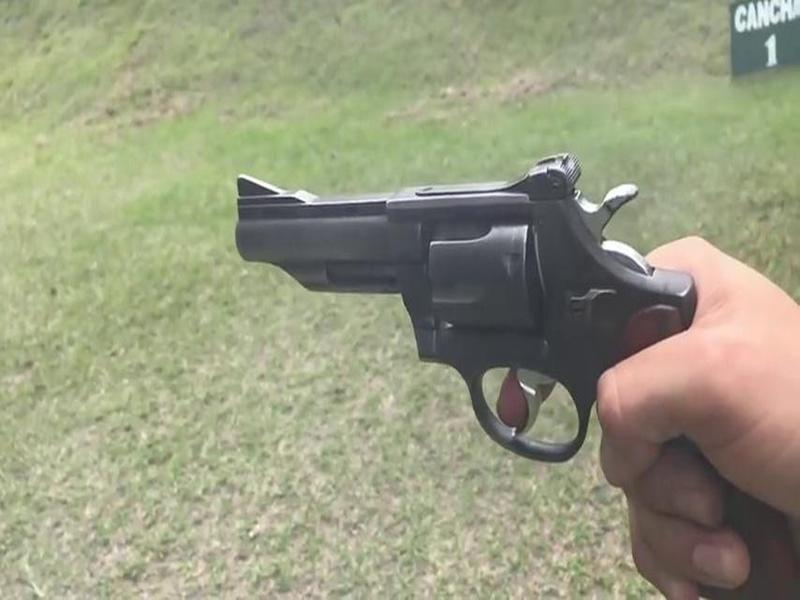Revolver: (224, 114, 704, 461)
